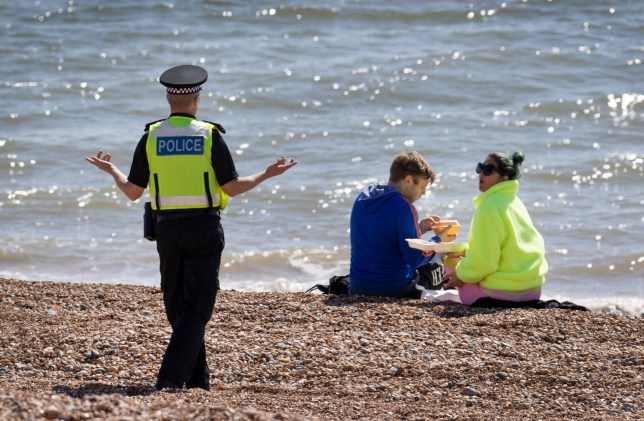Person: (86, 64, 297, 390), (445, 151, 549, 301), (349, 149, 438, 297)
